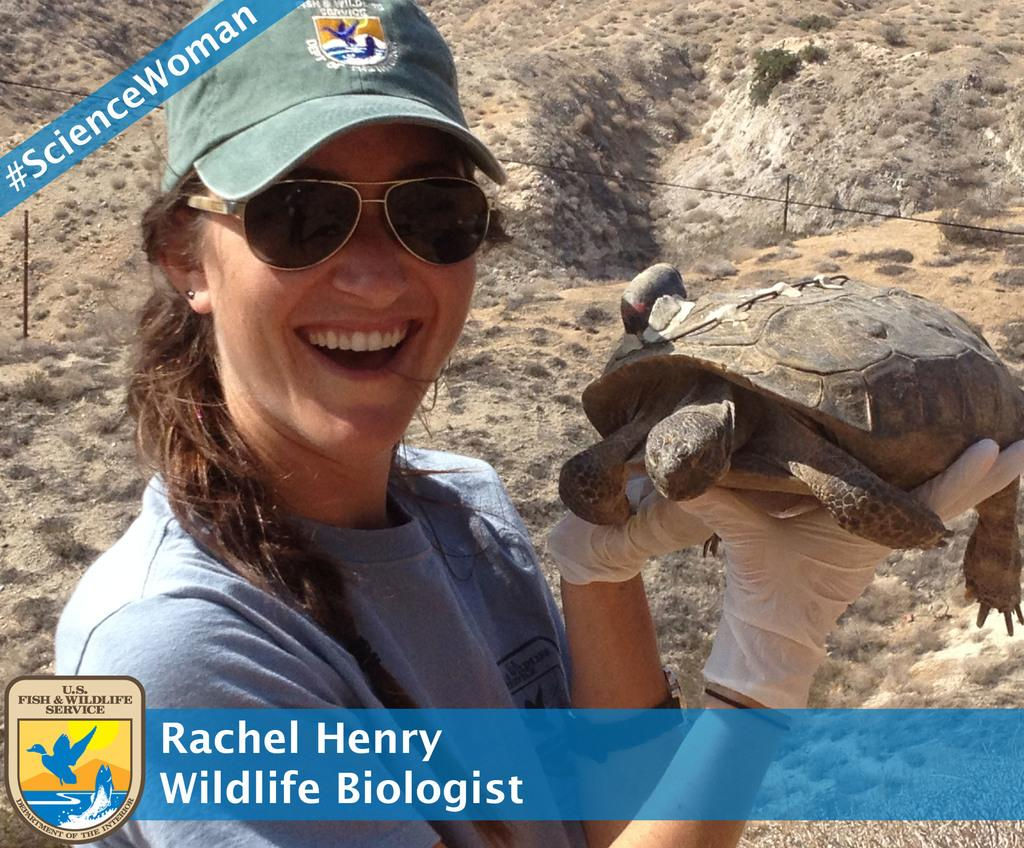Hat: (159, 0, 508, 195)
